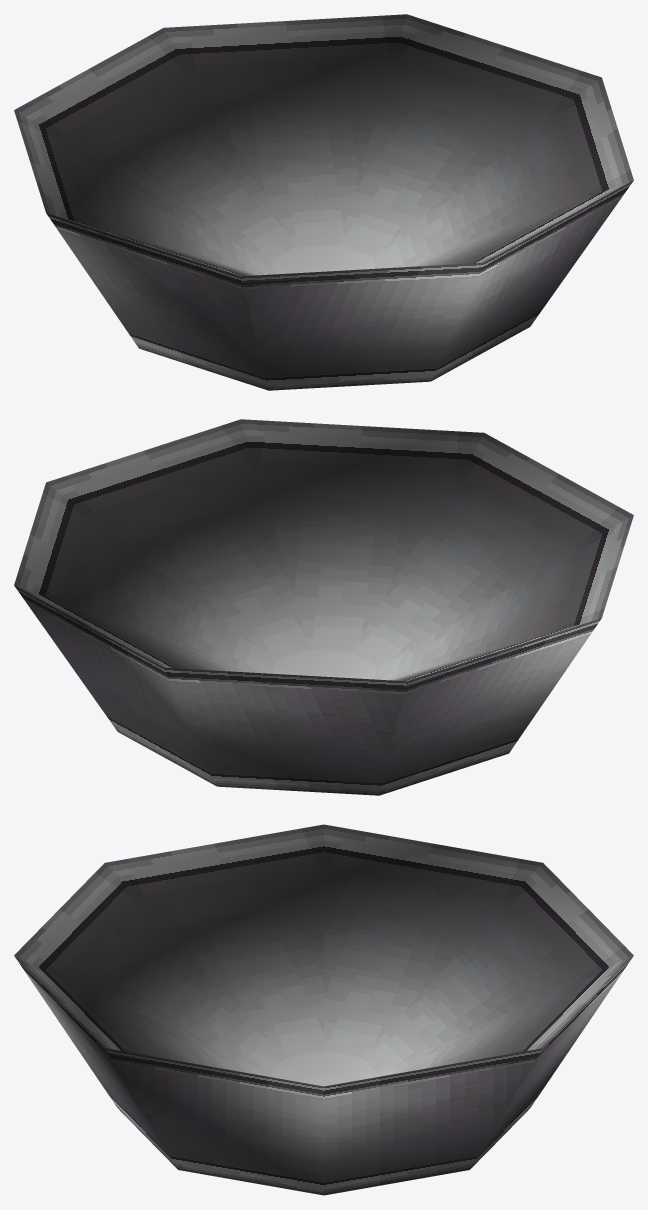
Rendered from bowl.glb.
3 views of the same model, one above another, from view 1: azimuth 30°, elevation 25°; view 2: azimuth 150°, elevation 25°; view 3: azimuth 270°, elevation 25° (orthographic). The views are drawn at different scales.
Size of the model in its own units: 0.4974 by 0.1353 by 0.4974.
Materials: 1 (1 with a texture image).
